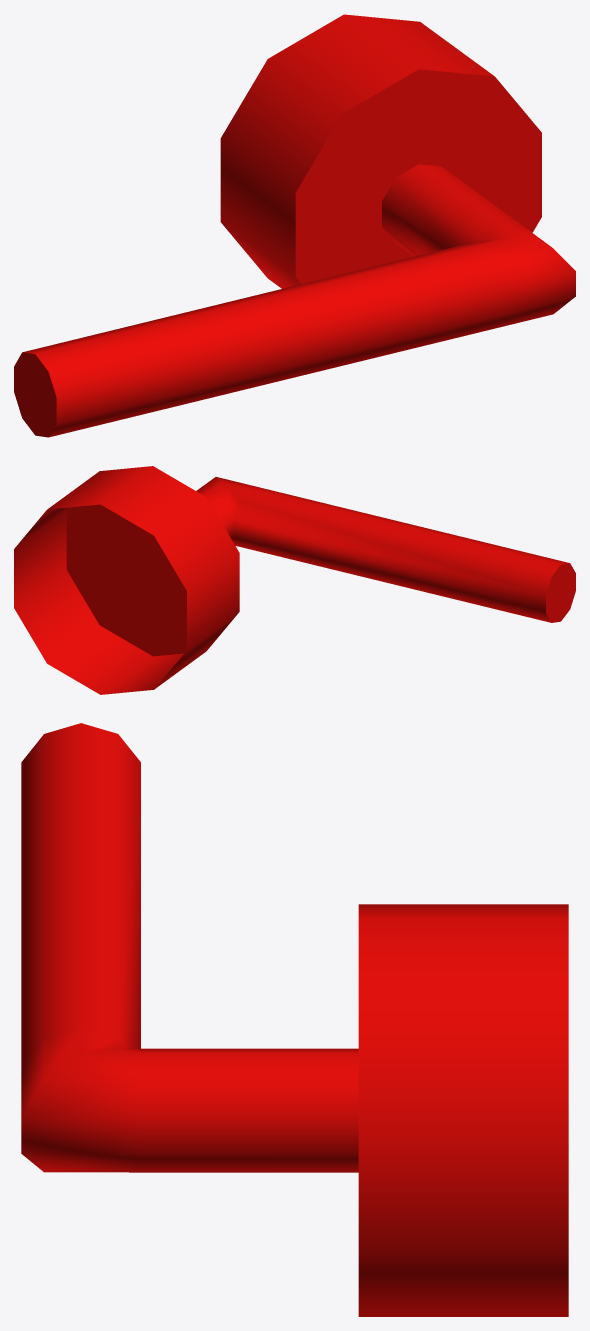
Rendered from DoorHandel.fbx.
3 renders of one model, top to bottom at view 1: azimuth 30°, elevation 25°; view 2: azimuth 150°, elevation 25°; view 3: azimuth 270°, elevation 25°, orthographic. The views are drawn at different scales.
Visible parts, largest first — view 1: Handel, DoorHandel; view 2: DoorHandel, Handel; view 3: DoorHandel, Handel.
Boxes of the visible parts, x1,y1,x2,y2 form: Handel: (14,164,575,437); DoorHandel: (220,14,541,288); DoorHandel: (14,466,239,694); Handel: (196,477,575,622); DoorHandel: (358,904,568,1316); Handel: (21,723,358,1172).
Size of the model in its own units: 23.36 by 10 by 13.03.
